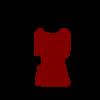maglia: (34, 27, 71, 87)
